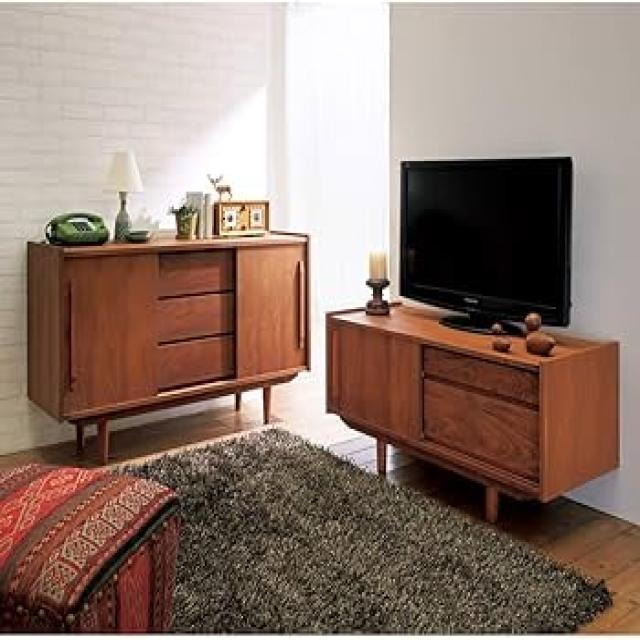vintage shelf: (328, 295, 622, 532), (27, 221, 313, 438)
